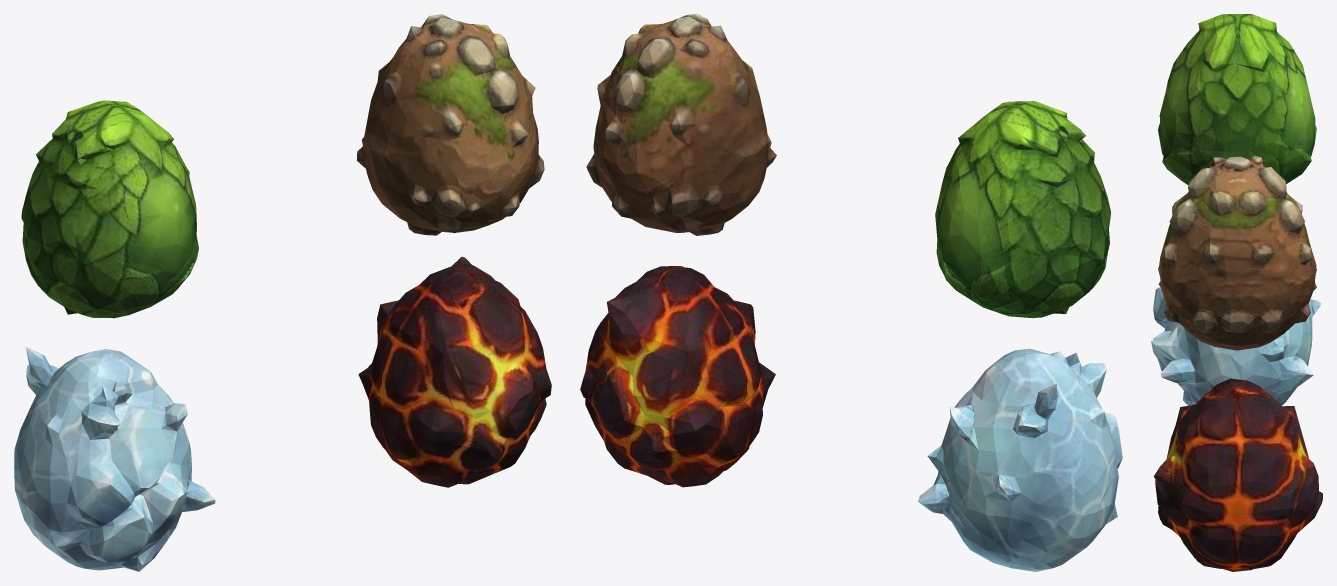
File: eggs_elemental_four_lod0.glb
3 views of the same model, side by side, from view 1: azimuth 30°, elevation 25°; view 2: azimuth 150°, elevation 25°; view 3: azimuth 270°, elevation 25° (orthographic). The views are drawn at different scales.
Parts seen in each view (by area): view 1: eggs_elemental_four_lod0; view 2: eggs_elemental_four_lod0; view 3: eggs_elemental_four_lod0.
Part boxes in pixels (bbox=[...]): eggs_elemental_four_lod0: bbox=[14, 14, 551, 571]; eggs_elemental_four_lod0: bbox=[580, 14, 1122, 571]; eggs_elemental_four_lod0: bbox=[1151, 14, 1322, 571].
Bounding box in the file's own units: 1.4 × 1.21 × 0.4698.
1 material, 1 textured.
